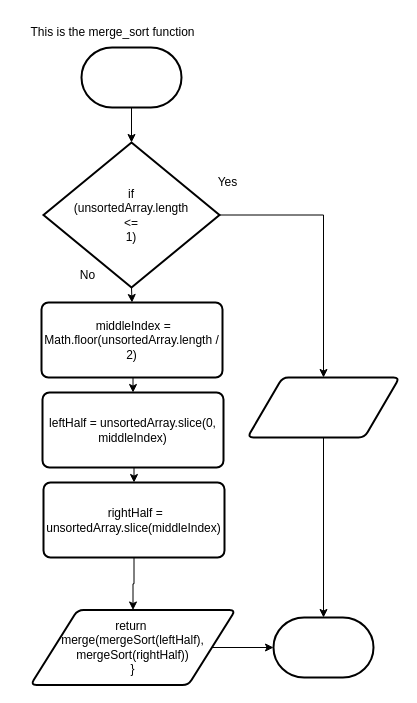
The diagram is 417 pixels wide and 703 high, and some of its shapes have lost their labels. The shapes that lost their labels are listed below. From the top down, each one's centre as x and y in pixels, then its label:
At pixel 131 77: "Start".
At pixel 323 407: "return array".
At pixel 323 647: "Stop".
